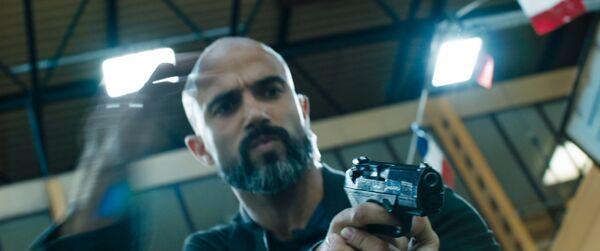Gun: (343, 154, 445, 240)
